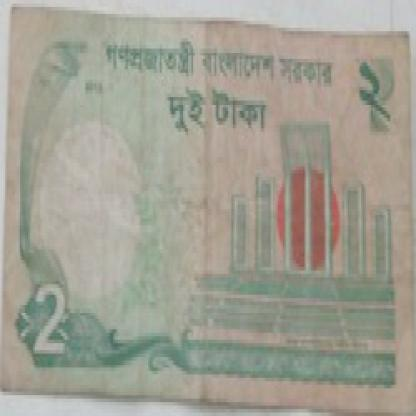two taka: (22, 277, 83, 378), (351, 69, 401, 139)
